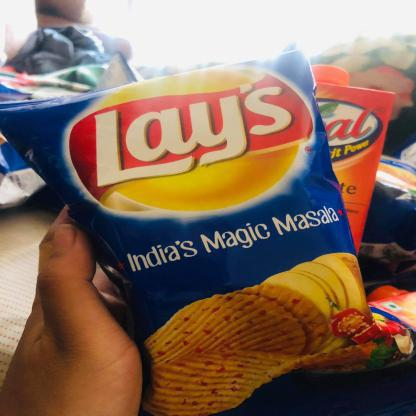indian_magic_masala: (6, 51, 393, 415)
